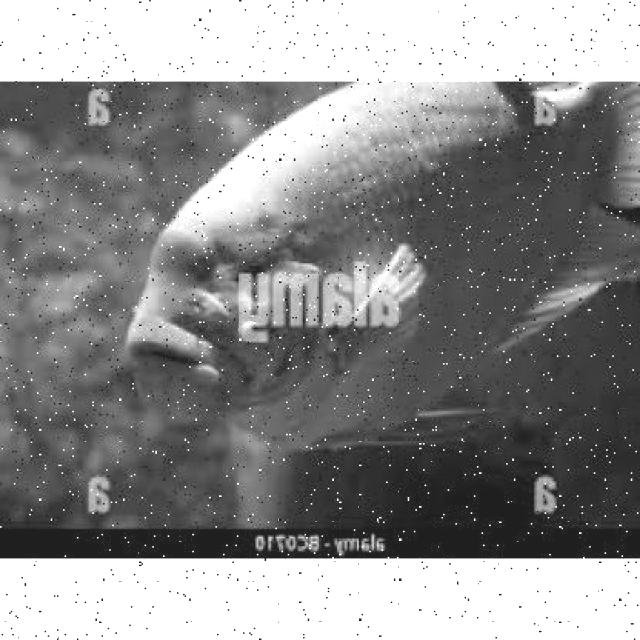gurame: (102, 79, 640, 455)
